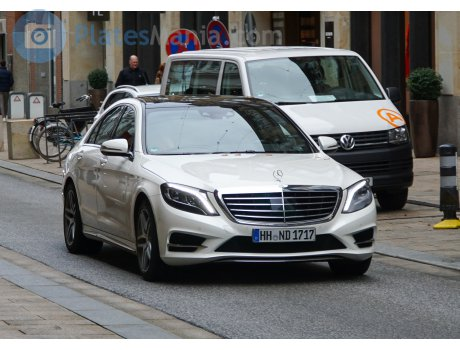License Plates: (260, 229, 309, 236)
